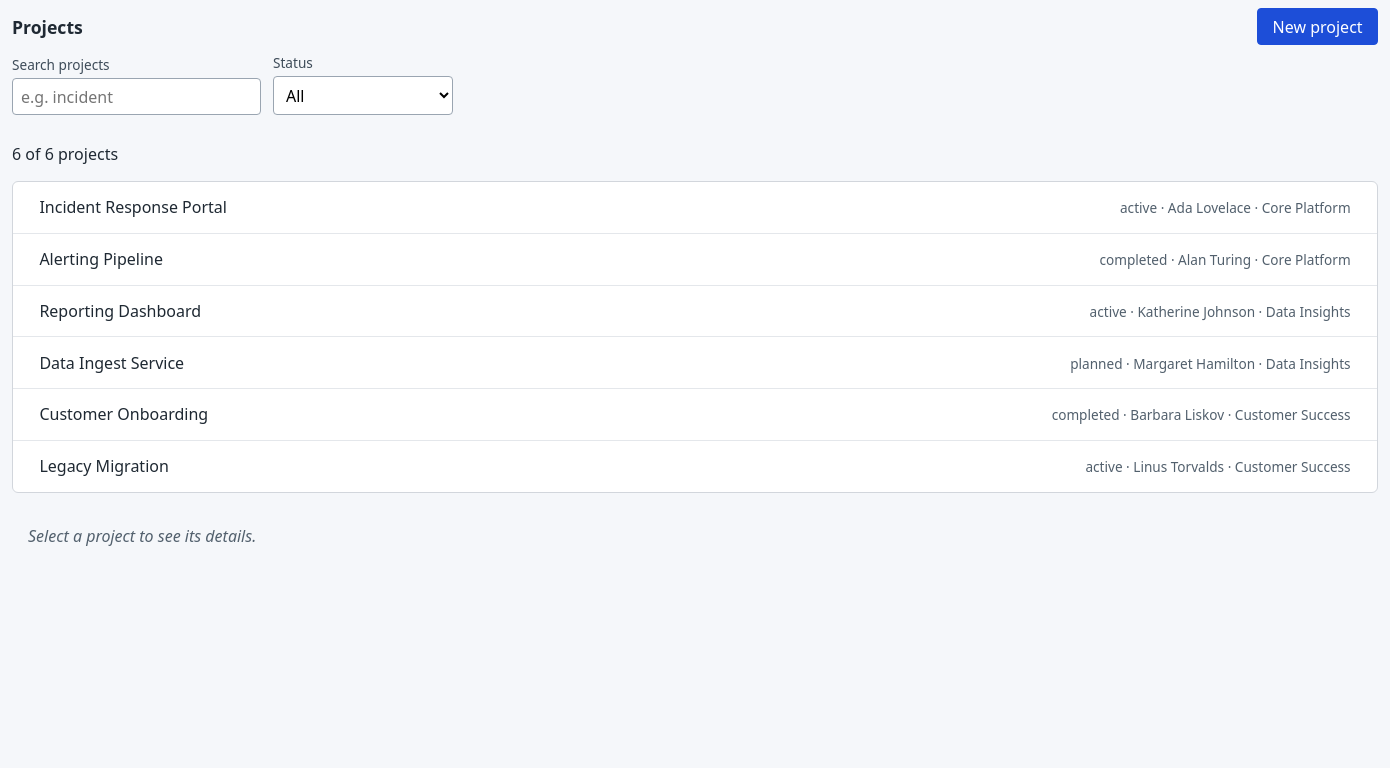
Test case: ProjectsPage — search (PRJ-SEARCH) › shows an explicit empty state for a search without results (PRJ-SEARCH-4)
In the search field labelled "Search projects": (136, 97) [12,78,261,115], type "zzzz"
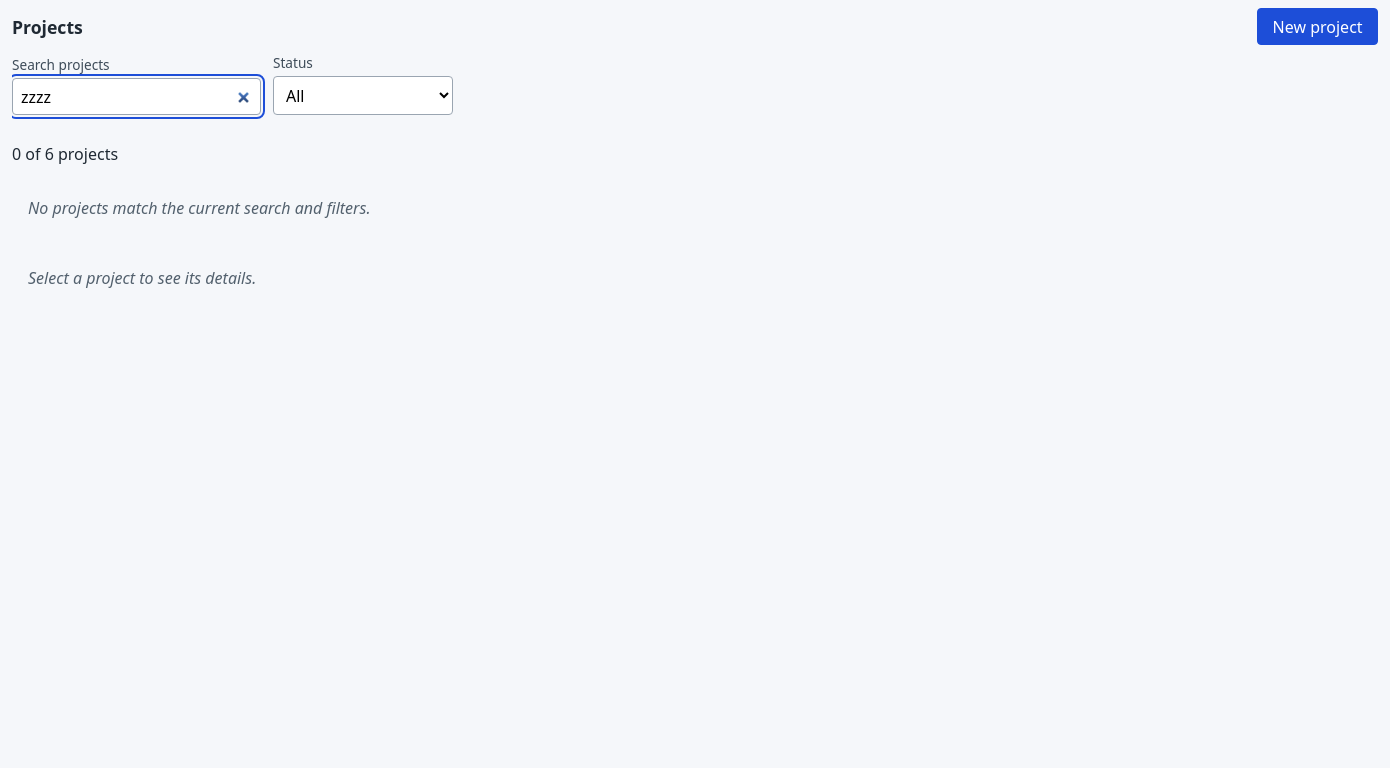
Expected: the text "0 of 6 projects" is shown, [12,143,118,165]
Expected: the text "No projects match the current search and filters." is shown, [28,197,370,219]
